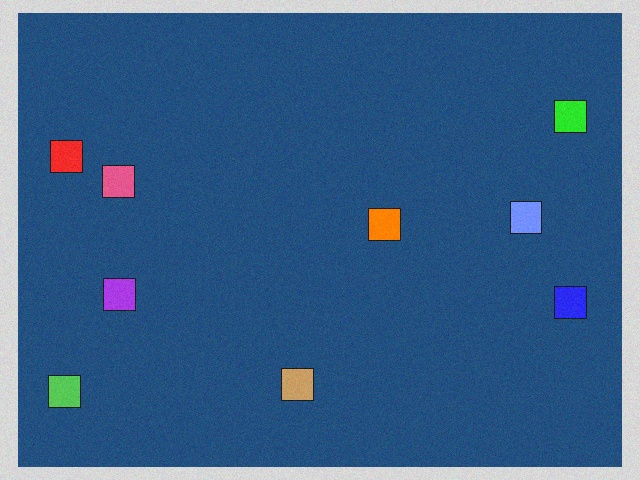block: (48, 368, 93, 408), (542, 100, 587, 138), (50, 141, 95, 176), (542, 284, 586, 319), (102, 166, 144, 200), (103, 276, 145, 310), (500, 201, 542, 234), (282, 362, 314, 401), (366, 209, 401, 241)
